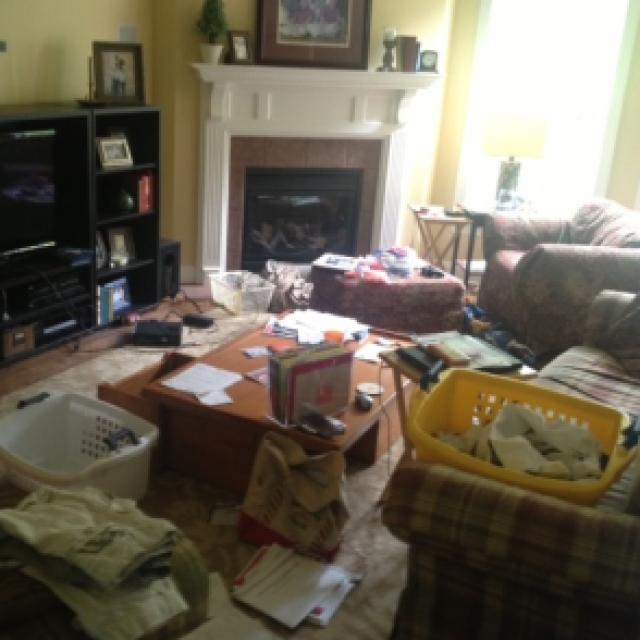scattered-items: (4, 472, 346, 640), (188, 255, 425, 460)
